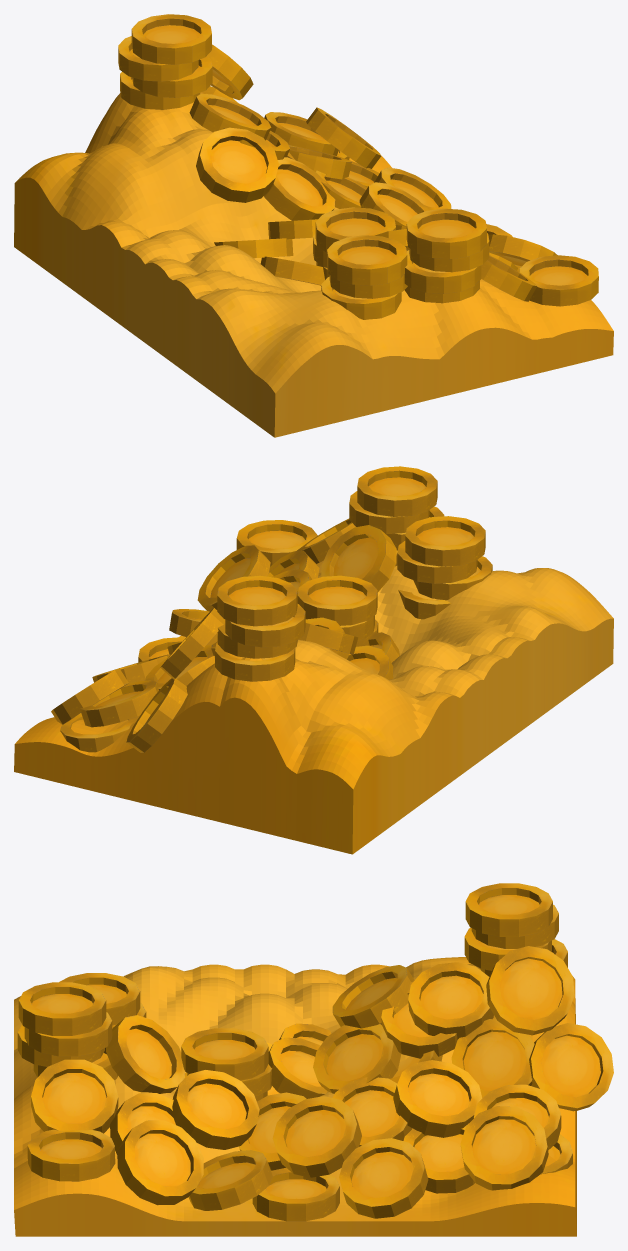
The model's file is B Coin Field.fbx.
3 views of the same model, one above another, from view 1: azimuth 30°, elevation 25°; view 2: azimuth 150°, elevation 25°; view 3: azimuth 270°, elevation 25° (orthographic). The views are drawn at different scales.
Parts seen in each view (by area): view 1: B Coin Field, B Coin.002, B Coin.008, B Coin.024, B Coin.032, B Coin.012, B Coin.020, B Coin.040, B Coin.026, B Coin.041, B Coin.006, B Coin.038 (+17 smaller); view 2: B Coin Field, B Coin.032, B Coin.024, B Coin.008, B Coin.009, B Coin.040, B Coin.012, B Coin.028, B Coin.017, B Coin.036, B Coin.021, B Coin.023 (+17 smaller); view 3: B Coin Field, B Coin.025, B Coin.041, B Coin.036, B Coin.028, B Coin.037, B Coin.038, B Coin.015, B Coin.010, B Coin.013, B Coin.026, B Coin.009 (+24 smaller).
Part boxes in pixels (x1=…): B Coin Field: x1=14, y1=92, x2=613, y2=437; B Coin.002: x1=196, y1=127, x2=278, y2=202; B Coin.008: x1=406, y1=208, x2=486, y2=259; B Coin.024: x1=131, y1=14, x2=211, y2=64; B Coin.032: x1=327, y1=235, x2=407, y2=285; B Coin.012: x1=519, y1=255, x2=598, y2=306; B Coin.020: x1=264, y1=157, x2=335, y2=220; B Coin.040: x1=315, y1=207, x2=395, y2=252; B Coin.026: x1=189, y1=93, x2=271, y2=140; B Coin.041: x1=306, y1=107, x2=381, y2=168; B Coin.006: x1=404, y1=250, x2=481, y2=293; B Coin.038: x1=359, y1=182, x2=429, y2=226; B Coin Field: x1=14, y1=560, x2=613, y2=854; B Coin.032: x1=405, y1=516, x2=485, y2=566; B Coin.024: x1=217, y1=575, x2=297, y2=626; B Coin.008: x1=357, y1=466, x2=437, y2=516; B Coin.009: x1=321, y1=525, x2=396, y2=592; B Coin.040: x1=297, y1=575, x2=377, y2=625; B Coin.012: x1=236, y1=520, x2=317, y2=566; B Coin.028: x1=126, y1=678, x2=187, y2=752; B Coin.017: x1=80, y1=680, x2=158, y2=727; B Coin.036: x1=197, y1=545, x2=270, y2=611; B Coin.021: x1=215, y1=642, x2=295, y2=681; B Coin.023: x1=225, y1=604, x2=305, y2=647; B Coin Field: x1=14, y1=957, x2=576, y2=1236; B Coin.025: x1=486, y1=946, x2=574, y2=1035; B Coin.041: x1=460, y1=1106, x2=548, y2=1190; B Coin.036: x1=117, y1=1120, x2=203, y2=1205; B Coin.028: x1=529, y1=1023, x2=613, y2=1111; B Coin.037: x1=339, y1=1138, x2=428, y2=1218; B Coin.038: x1=272, y1=1096, x2=361, y2=1177; B Coin.015: x1=172, y1=1070, x2=259, y2=1149; B Coin.010: x1=31, y1=1059, x2=118, y2=1133; B Coin.013: x1=393, y1=1060, x2=482, y2=1137; B Coin.026: x1=408, y1=962, x2=493, y2=1039; B Coin.009: x1=106, y1=1015, x2=184, y2=1093.
Size of the model in its own units: 2294 by 1323 by 3207.
